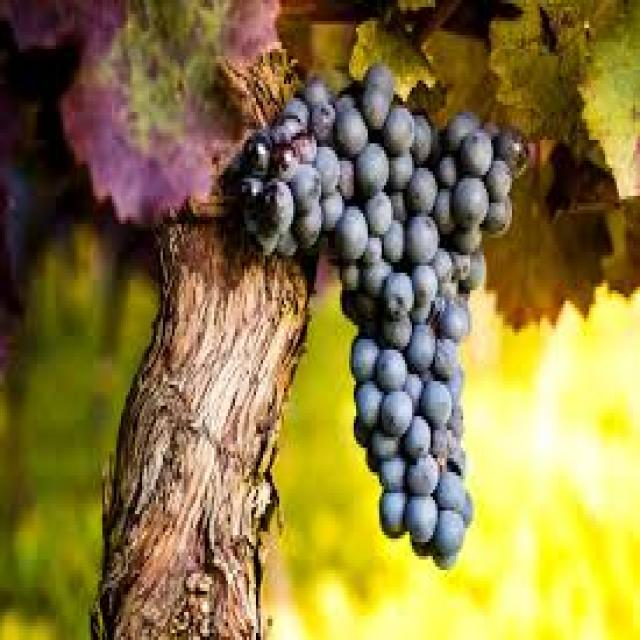Grapes: (245, 180, 289, 253), (286, 167, 324, 251), (488, 120, 531, 176), (367, 205, 407, 265), (386, 117, 426, 170), (316, 150, 345, 223), (423, 372, 455, 430), (355, 152, 396, 193), (491, 162, 513, 236), (335, 109, 368, 158), (309, 86, 338, 141), (355, 383, 386, 431), (431, 513, 468, 552), (383, 390, 414, 435), (456, 187, 490, 228), (383, 275, 414, 318), (413, 218, 440, 267), (438, 472, 466, 519), (361, 91, 390, 134), (347, 344, 381, 380), (343, 218, 370, 262), (377, 352, 407, 391), (380, 492, 407, 535), (407, 504, 437, 542), (412, 273, 436, 320), (257, 139, 287, 176), (382, 454, 411, 492), (290, 122, 316, 163), (464, 139, 492, 176), (448, 123, 479, 155), (412, 458, 438, 496), (413, 330, 437, 369), (404, 419, 429, 456), (414, 175, 437, 213), (447, 307, 473, 340), (437, 195, 455, 235), (388, 320, 415, 345)
